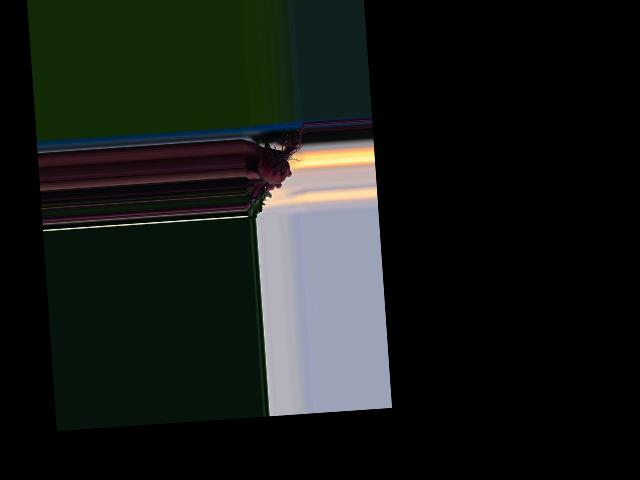beet: (241, 123, 311, 218)
